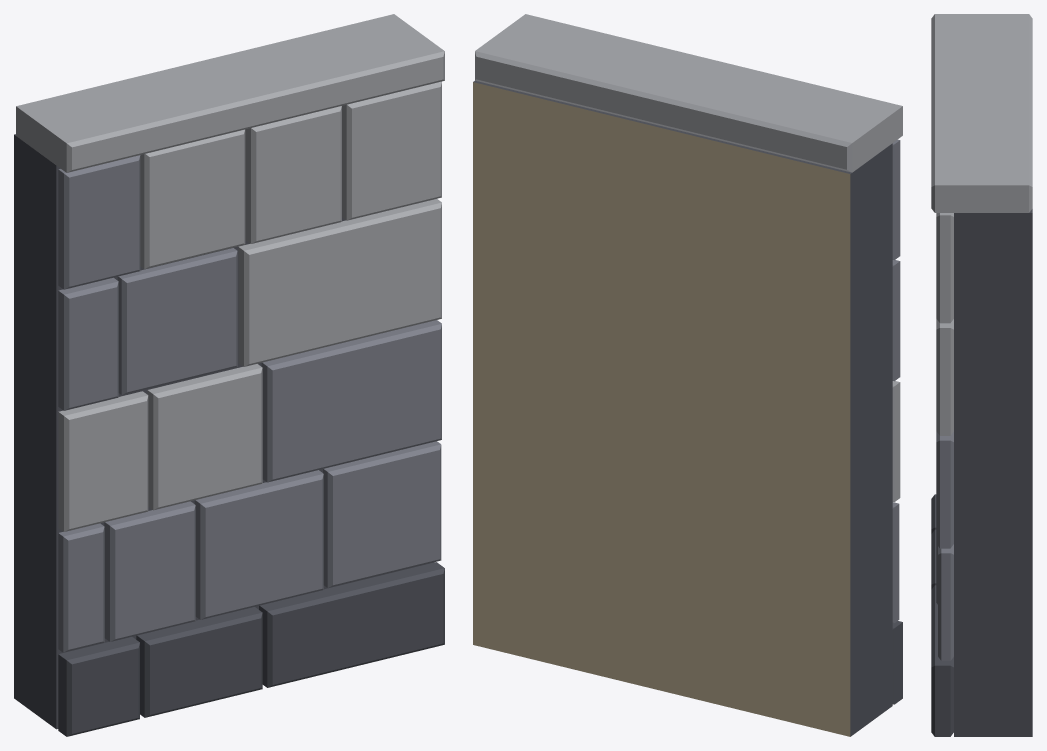
File: WallStraight_15.glb
3 renders of one model, left to right at view 1: azimuth 30°, elevation 25°; view 2: azimuth 150°, elevation 25°; view 3: azimuth 270°, elevation 25°, orthographic. The views are drawn at different scales.
Parts seen in each view (by area): view 1: WallStraight_15; view 2: WallStraight_15; view 3: WallStraight_15.
Boxes of the visible parts, box(x1,y1,x2,y2) form: WallStraight_15: box(14, 14, 444, 736); WallStraight_15: box(473, 14, 902, 736); WallStraight_15: box(931, 14, 1032, 736).
Bounding box in the file's own units: 8 × 12 × 2.
